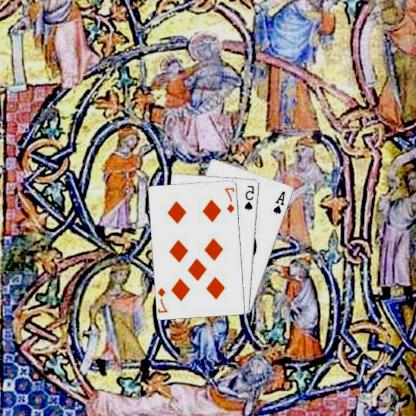5S: (244, 182, 258, 212)
7D: (224, 185, 237, 214), (158, 284, 170, 314)
AS: (273, 189, 288, 215)
